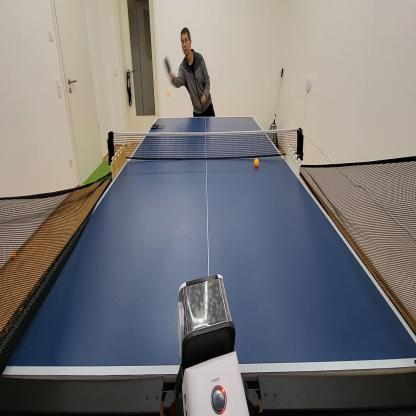Ball: (166, 89, 172, 99), (254, 158, 259, 168), (12, 252, 16, 259)
